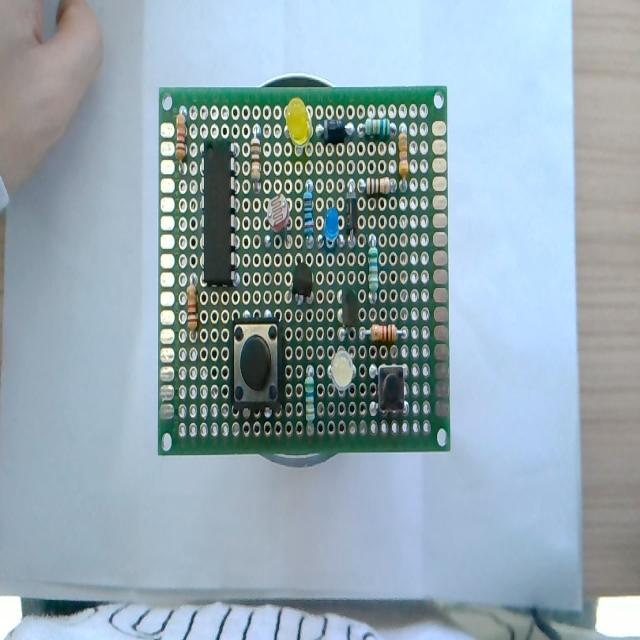IC: (197, 136, 245, 292)
cds: (261, 191, 295, 246)
diode: (315, 114, 357, 144), (344, 174, 358, 246)
led: (280, 95, 318, 162), (323, 342, 361, 406), (320, 200, 342, 258)
resistor: (367, 230, 388, 310), (171, 94, 191, 174), (301, 360, 321, 433), (360, 174, 402, 204), (366, 321, 410, 348), (250, 124, 266, 192), (184, 276, 198, 346), (396, 123, 410, 193), (358, 113, 395, 139), (300, 183, 314, 247)
switch: (226, 316, 286, 416), (370, 357, 414, 426)
transistor: (334, 276, 364, 353), (284, 253, 321, 315)
